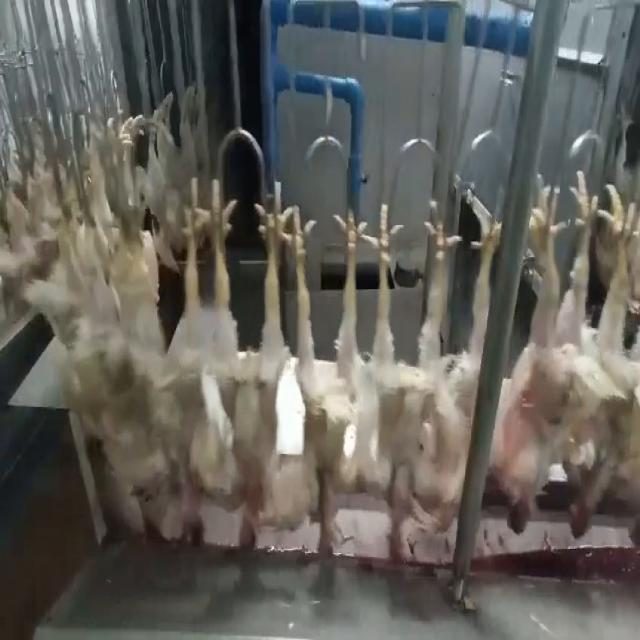chicken: (400, 195, 496, 553), (208, 180, 297, 533), (366, 194, 454, 535), (495, 174, 570, 537), (295, 203, 367, 535), (570, 172, 634, 540), (141, 182, 208, 533), (92, 188, 144, 484)
